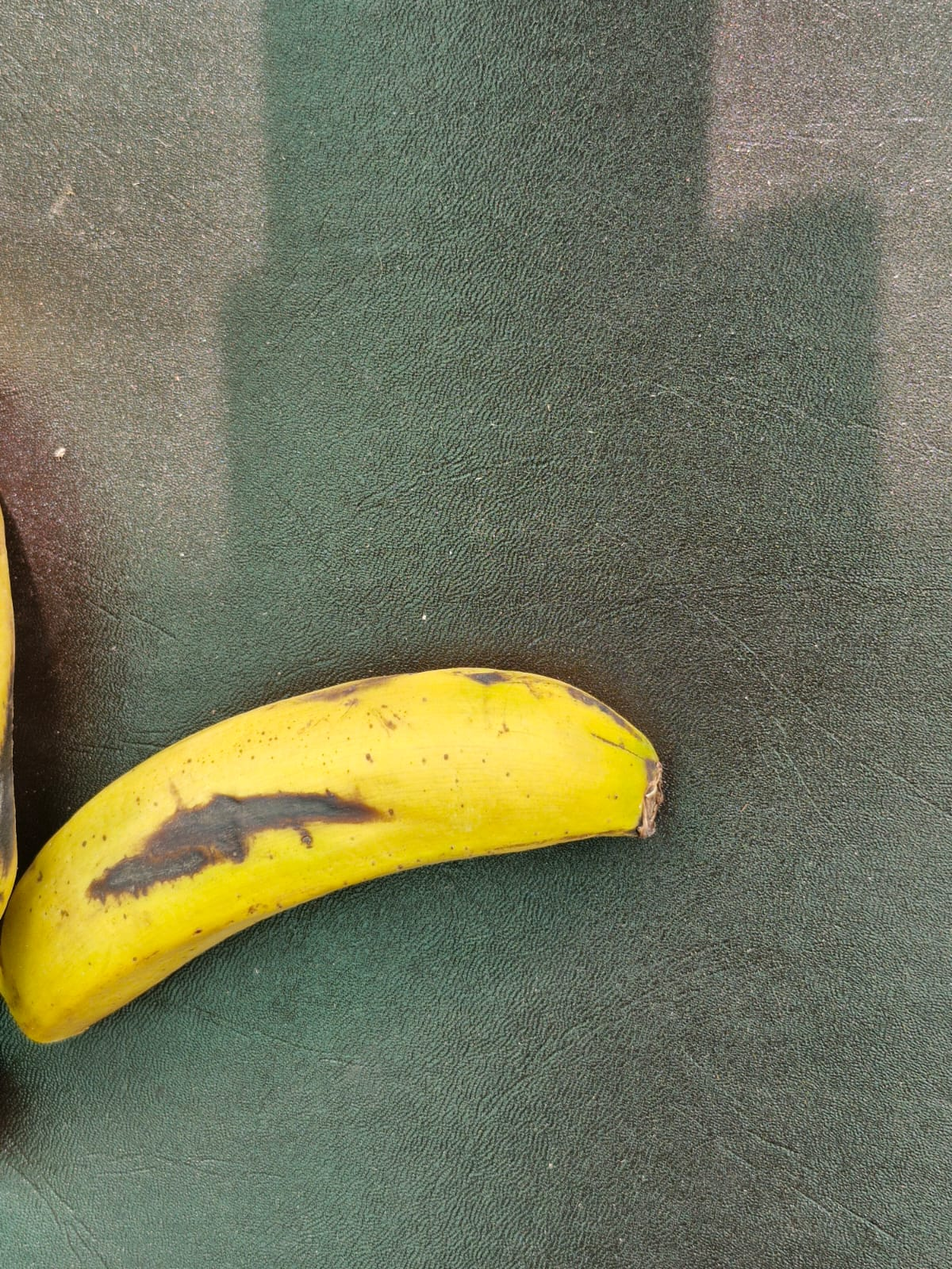banana: (6, 256, 862, 1087)
